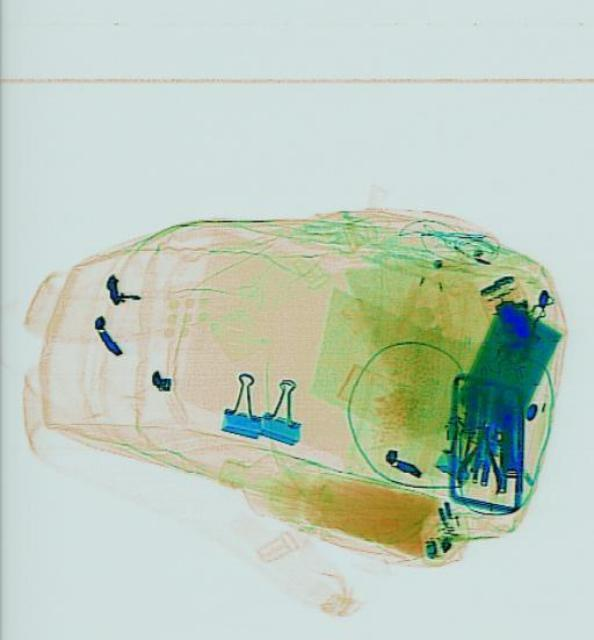Pliers: (452, 414, 506, 494)
